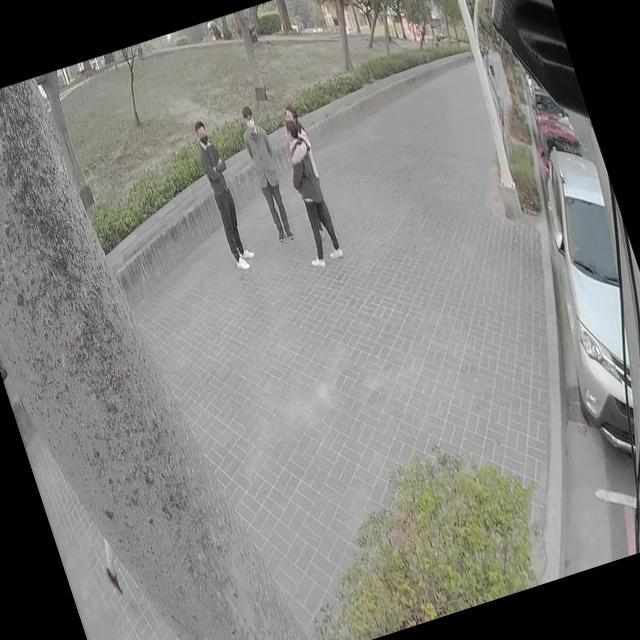person: (264, 114, 348, 279), (190, 117, 256, 270), (234, 103, 298, 244), (278, 96, 322, 184)
